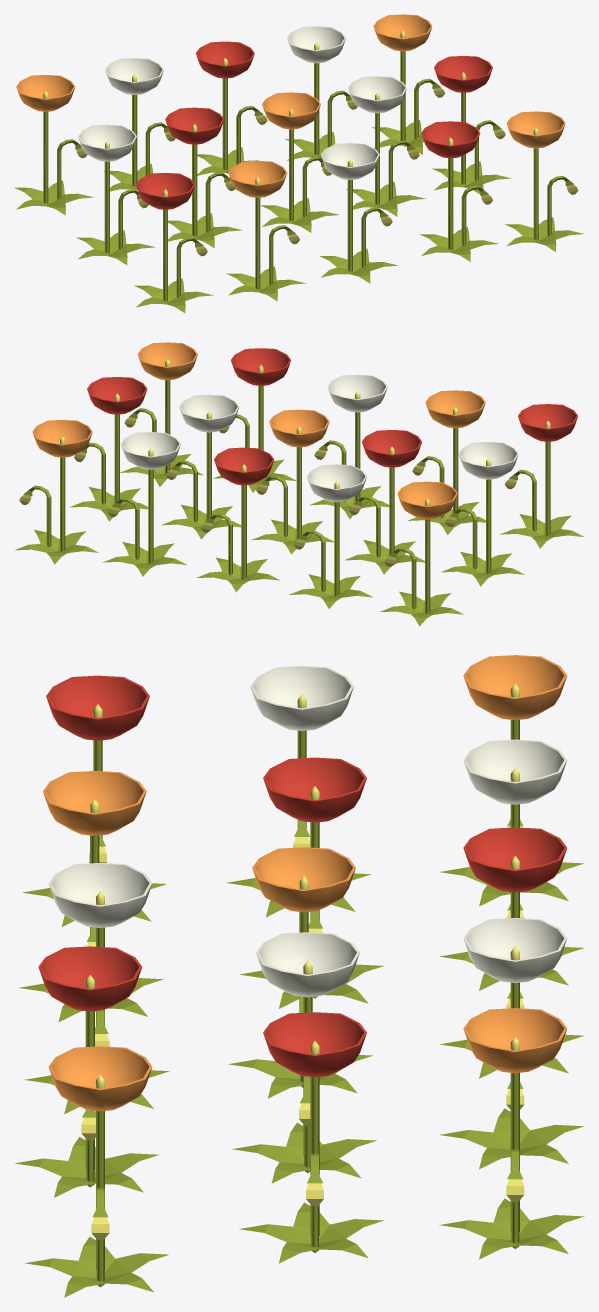
The model's file is farm_poppy.FBX.
The picture shows the model from 3 angles, top to bottom: view 1: azimuth 30°, elevation 25°; view 2: azimuth 150°, elevation 25°; view 3: azimuth 270°, elevation 25°; orthographic projection. The views are drawn at different scales.
Parts seen in each view (by area): view 1: Cylinder024; view 2: Cylinder024; view 3: Cylinder024.
Boxes of the visible parts, x1,y1,x2,y2 form: Cylinder024: (14,14,583,312); Cylinder024: (15,342,583,626); Cylinder024: (14,655,584,1297).
Bounding box in the file's own units: 19.62 × 6.71 × 12.4.
1 material, 1 textured.
